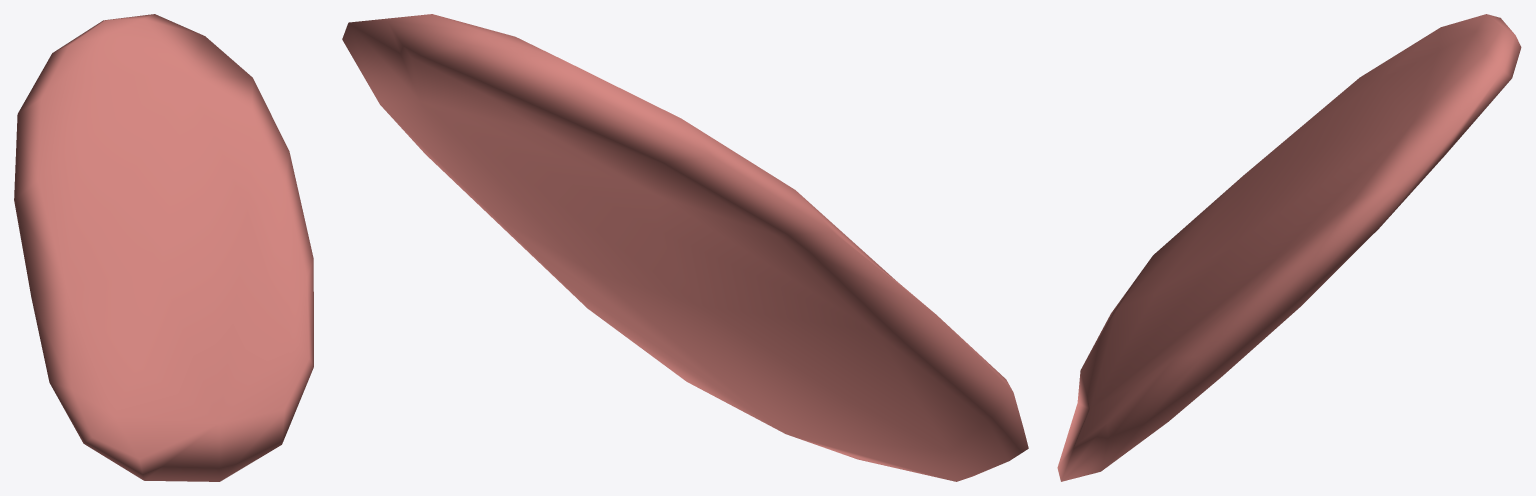
3 views of the same model, side by side, from view 1: azimuth 30°, elevation 25°; view 2: azimuth 150°, elevation 25°; view 3: azimuth 270°, elevation 25° (orthographic). The views are drawn at different scales.
Parts seen in each view (by area): view 1: ZA_fa2b19c010e6c180; view 2: ZA_fa2b19c010e6c180; view 3: ZA_fa2b19c010e6c180.
Boxes of the visible parts, box(x1,y1,x2,y2) form: ZA_fa2b19c010e6c180: box(14, 14, 313, 481); ZA_fa2b19c010e6c180: box(342, 14, 1028, 481); ZA_fa2b19c010e6c180: box(1057, 14, 1521, 481).
Size of the model in its own units: 0.00408 by 0.00454 by 0.00406.
